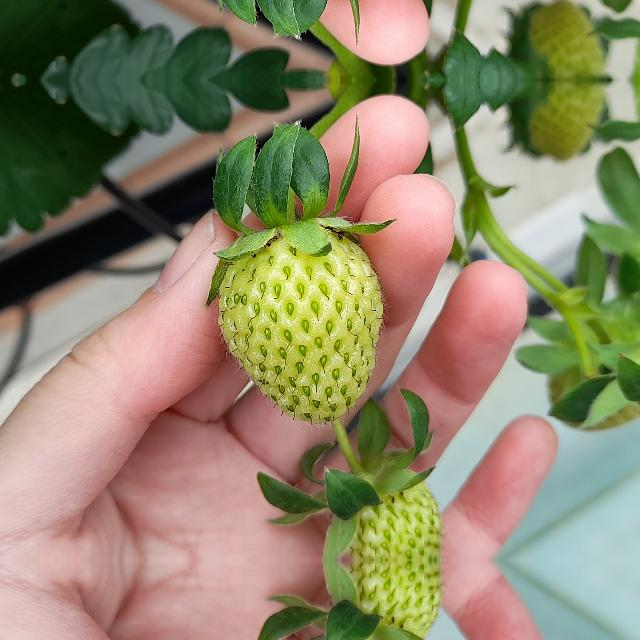Health_25: (218, 230, 382, 422), (334, 470, 448, 560), (334, 560, 447, 640)
